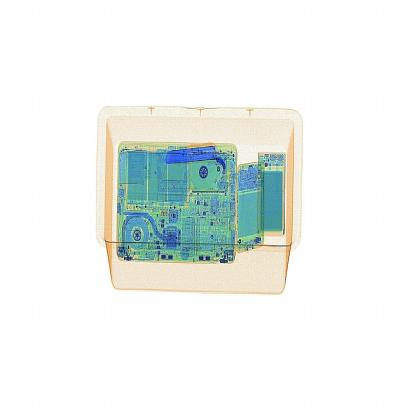pliers: (159, 138, 222, 170)
